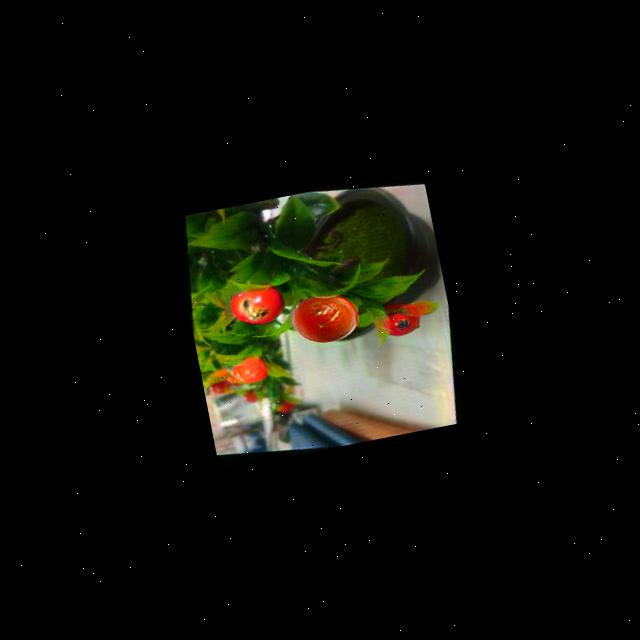tomato: (289, 289, 360, 352), (228, 283, 287, 329), (378, 300, 419, 338)
